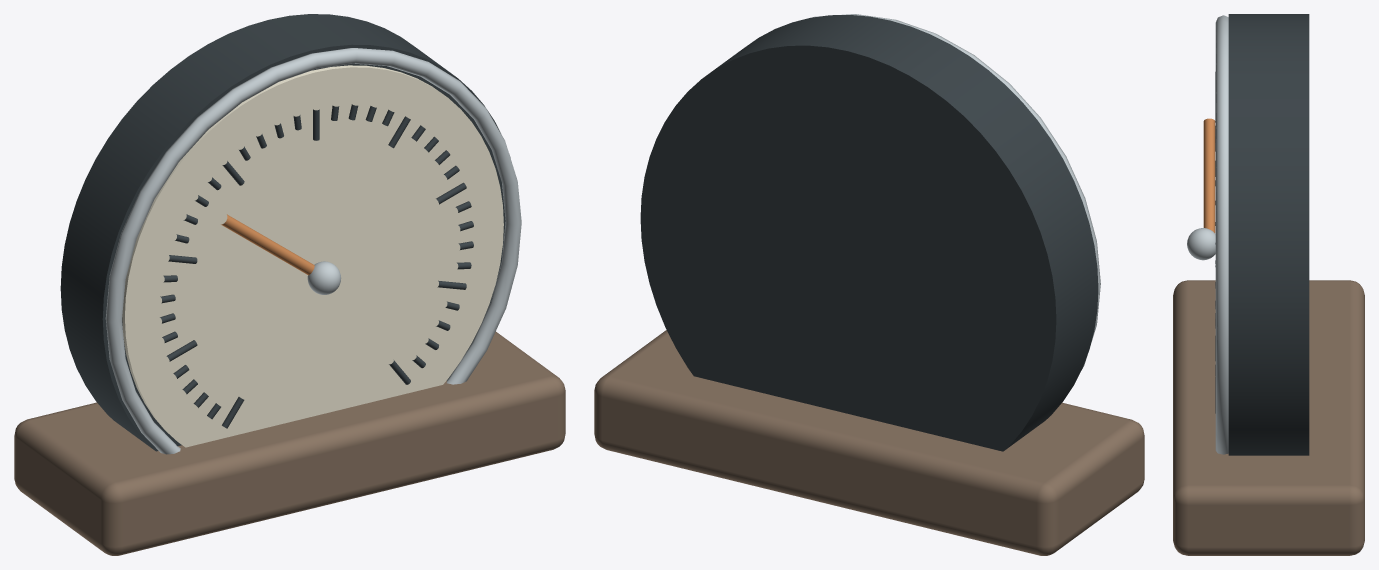
The model's file is barometer.glb.
3 renders of one model, left to right at view 1: azimuth 30°, elevation 25°; view 2: azimuth 150°, elevation 25°; view 3: azimuth 270°, elevation 25°, orthographic. The views are drawn at different scales.
Parts seen in each view (by area): view 1: aneroid-barometer; view 2: aneroid-barometer; view 3: aneroid-barometer.
Part boxes in pixels (bbox=[...]): aneroid-barometer: bbox=[14, 14, 565, 555]; aneroid-barometer: bbox=[594, 14, 1144, 555]; aneroid-barometer: bbox=[1173, 14, 1364, 555].
Size of the model in its own units: 0.4 by 0.36 by 0.15.
